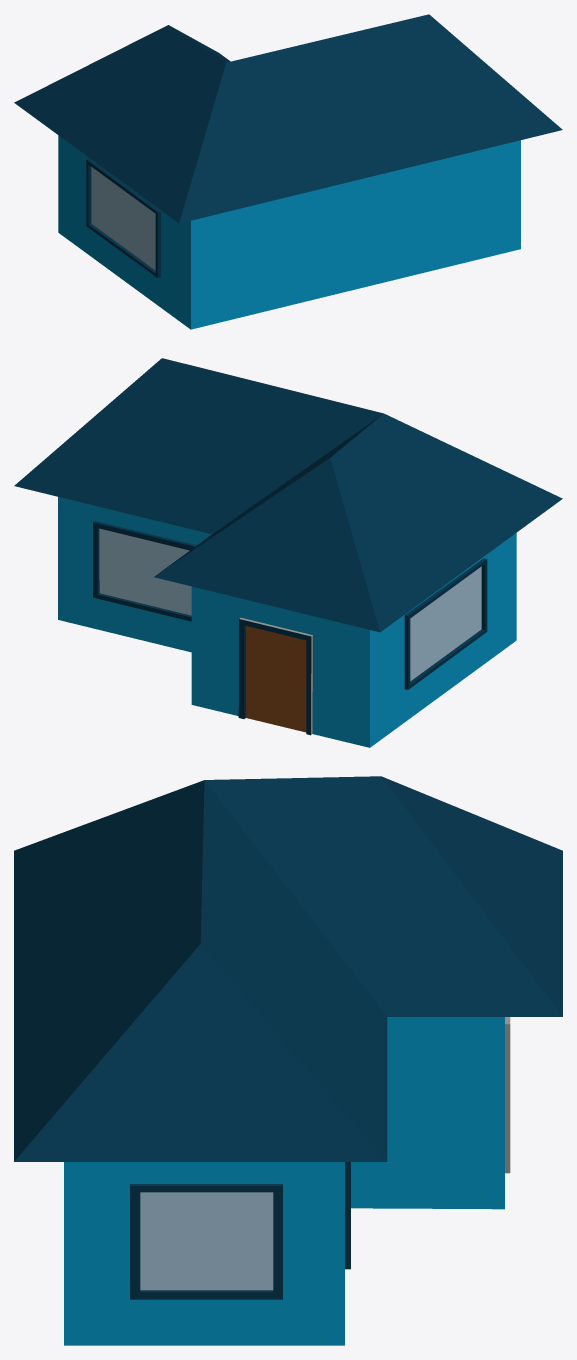
The model's file is blue corner building.fbx.
The picture shows the model from 3 angles, top to bottom: view 1: azimuth 30°, elevation 25°; view 2: azimuth 150°, elevation 25°; view 3: azimuth 270°, elevation 25°; orthographic projection. The views are drawn at different scales.
Visible parts, largest first — view 1: Cube.001; view 2: Cube.001; view 3: Cube.001.
Part boxes in pixels (<box>): Cube.001: <box>14,14,562,329</box>; Cube.001: <box>14,358,562,747</box>; Cube.001: <box>14,776,562,1345</box>.
Size of the model in its own units: 6136 by 3323 by 4573.
